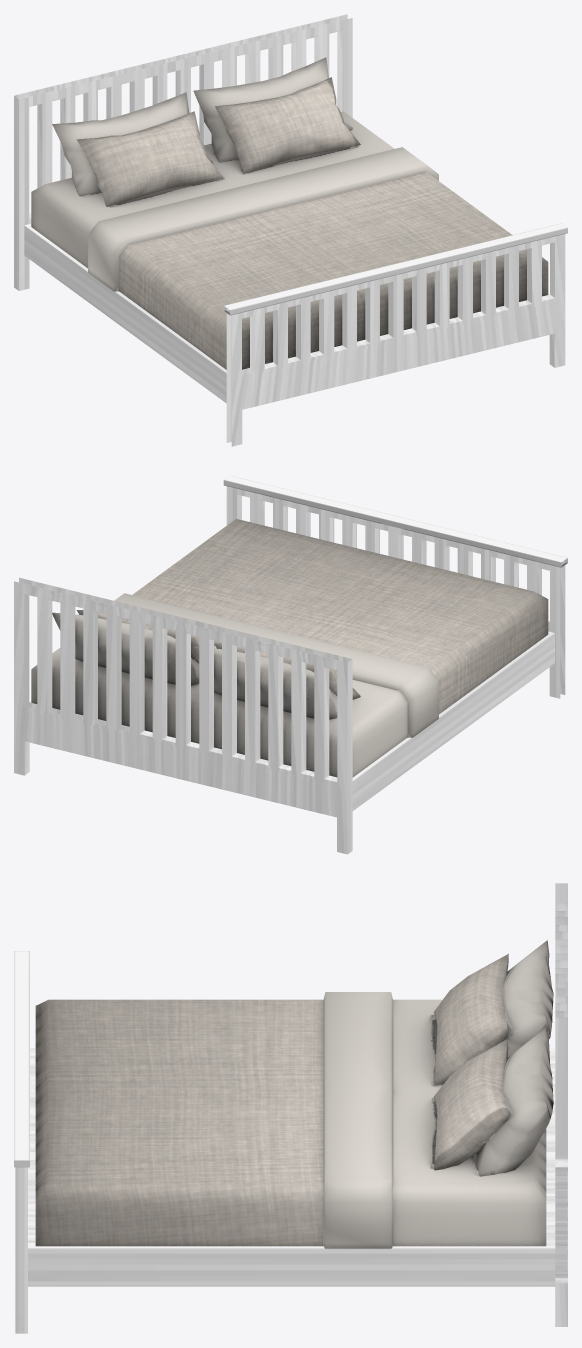
File: bedwhite.glb
3 views of the same model, one above another, from view 1: azimuth 30°, elevation 25°; view 2: azimuth 150°, elevation 25°; view 3: azimuth 270°, elevation 25° (orthographic). The views are drawn at different scales.
Parts seen in each view (by area): view 1: Object_48; view 2: Object_48; view 3: Object_48.
Boxes of the visible parts, bbox=[...] form: Object_48: bbox=[14, 14, 567, 446]; Object_48: bbox=[14, 475, 567, 854]; Object_48: bbox=[14, 883, 567, 1333].
Bounding box in the file's own units: 1.5 × 0.8155 × 1.68.
1 material, 1 textured.
